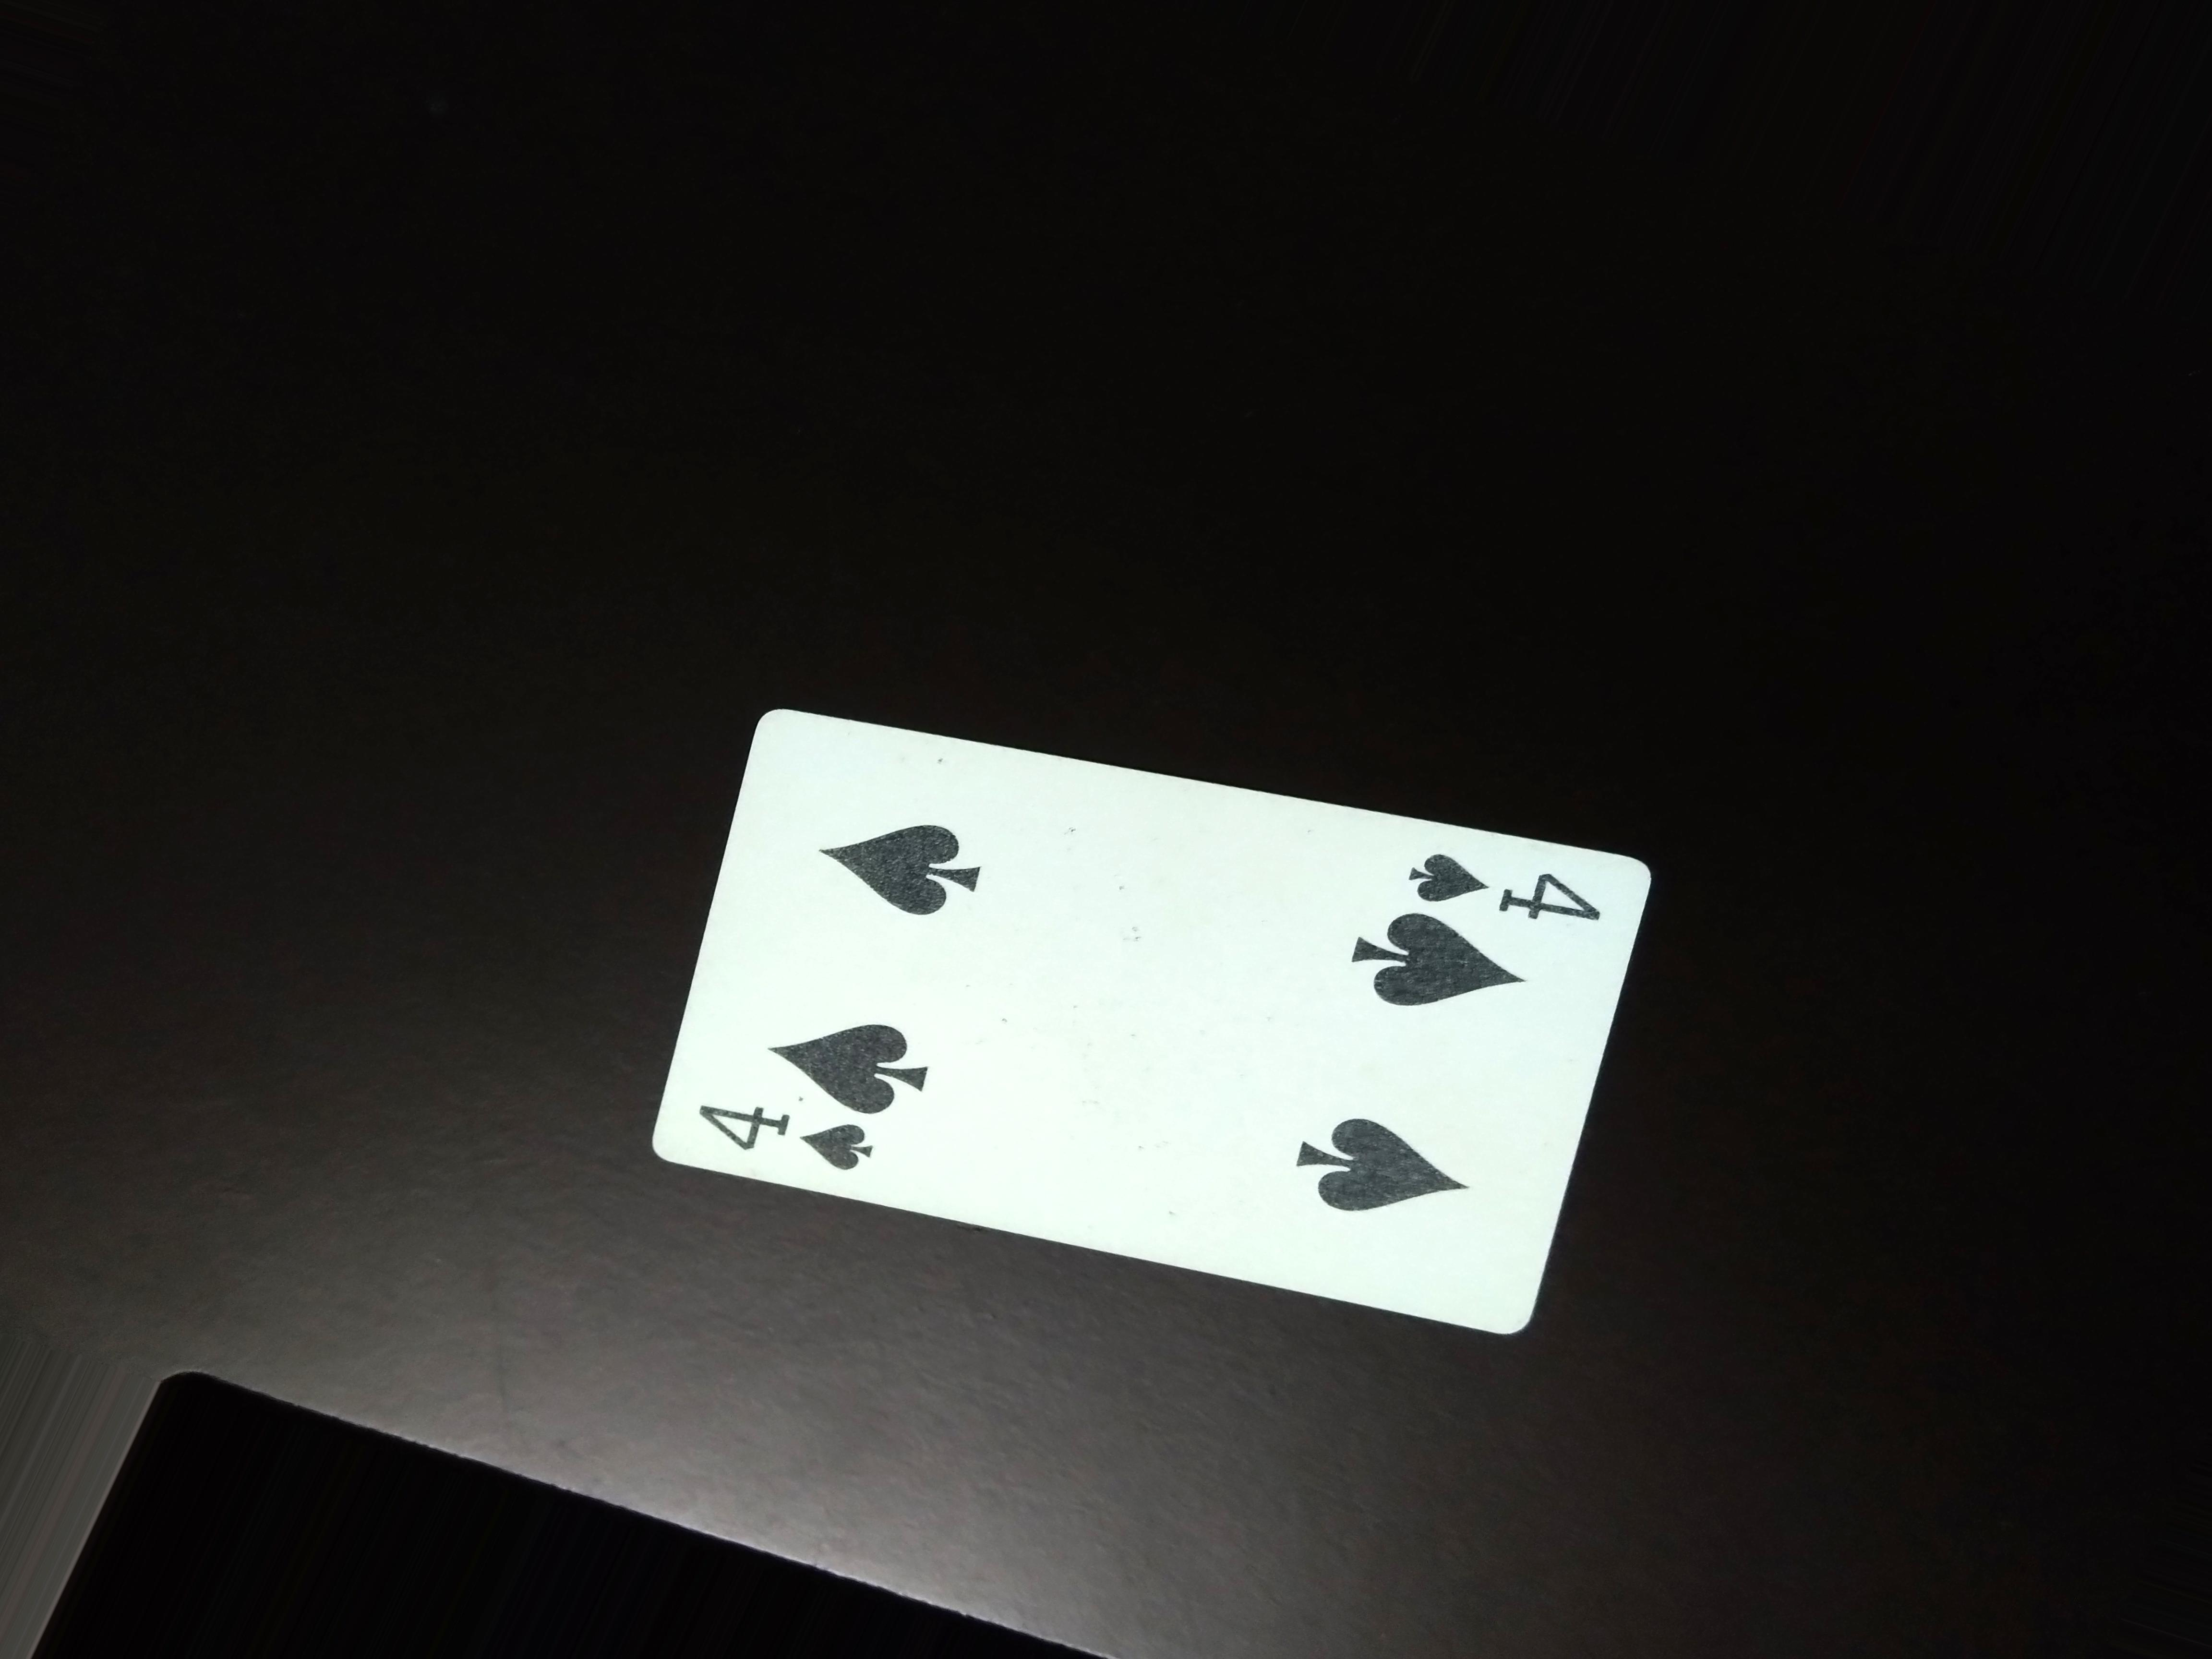4S: (681, 1091, 899, 1178)
